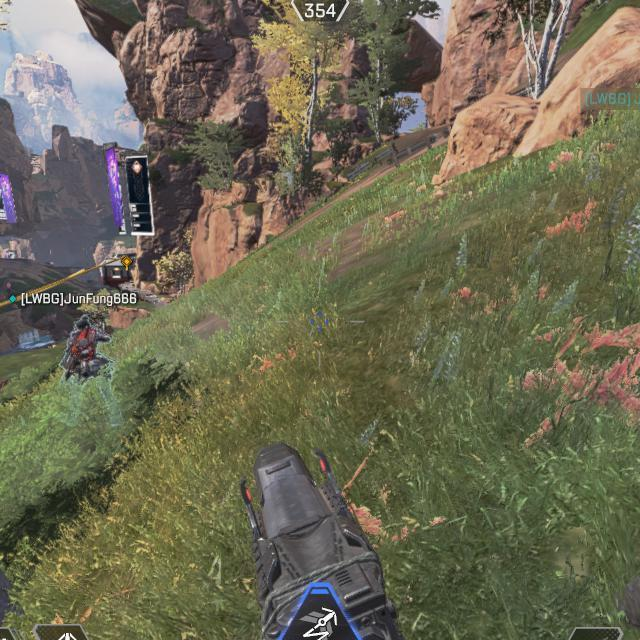avatar: (59, 313, 113, 380)
